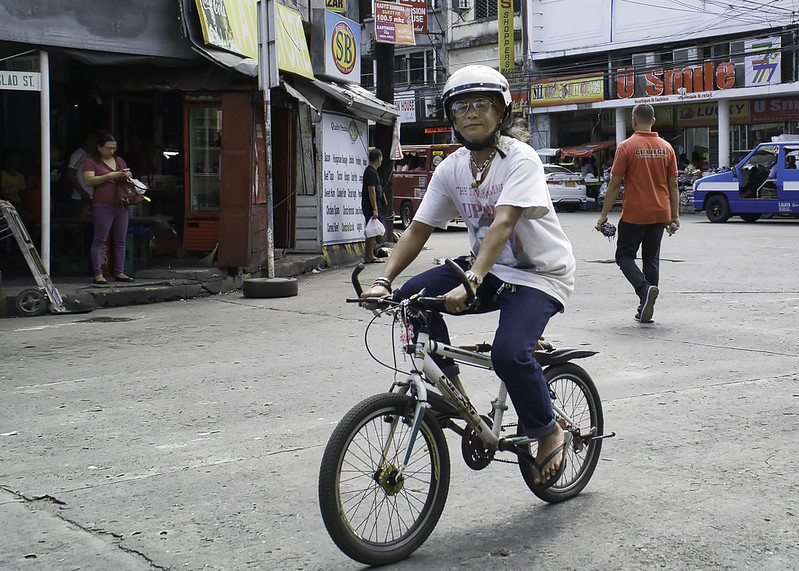helmet: (437, 62, 510, 112)
